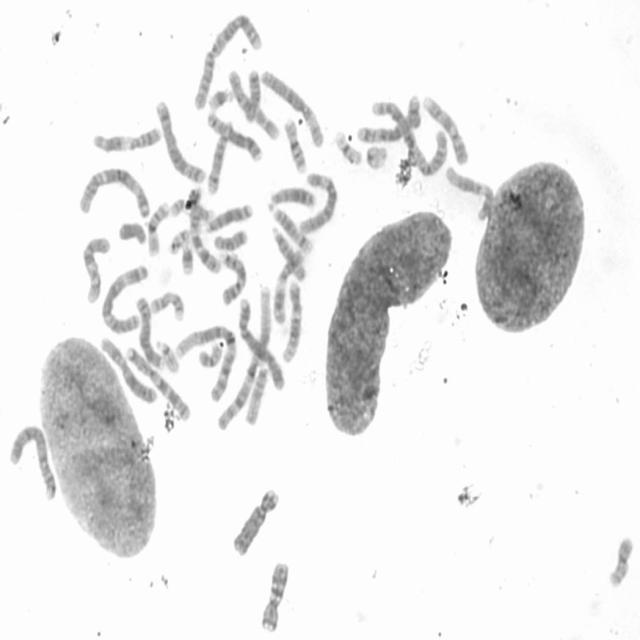A1: (216, 284, 272, 432), (173, 323, 237, 402)
A2: (193, 13, 264, 112), (371, 98, 449, 178)
A3: (77, 167, 151, 218), (101, 264, 148, 335)
B4: (237, 297, 287, 392), (9, 424, 59, 502)
B5: (155, 100, 207, 184), (354, 93, 422, 144), (232, 488, 280, 558)
C10: (228, 69, 280, 141), (81, 237, 111, 306)
C11: (272, 249, 305, 326), (91, 126, 162, 156)
C12: (444, 165, 495, 221), (280, 280, 303, 365)
C6: (261, 69, 324, 149), (299, 171, 339, 235)
C7: (126, 346, 192, 423), (188, 187, 222, 274), (260, 560, 294, 634)
C8: (206, 110, 264, 163), (136, 295, 166, 371)
C9: (422, 95, 469, 167), (218, 250, 247, 307)
D13: (204, 203, 254, 235), (265, 185, 316, 214)
D14: (267, 201, 314, 256), (206, 119, 234, 195)
D15: (270, 224, 308, 283), (244, 366, 268, 426)
E16: (282, 117, 308, 174), (146, 201, 169, 258)
E17: (149, 290, 186, 322), (169, 198, 214, 222)
E18: (243, 67, 262, 124), (212, 229, 251, 252)
F19: (334, 129, 362, 167), (366, 145, 388, 170)
F20: (608, 534, 634, 588), (197, 346, 222, 368)
G21: (208, 89, 234, 114), (179, 244, 195, 277)
G22: (153, 339, 180, 374), (170, 228, 188, 256)
X: (100, 335, 158, 405)
Y: (116, 222, 148, 247)
